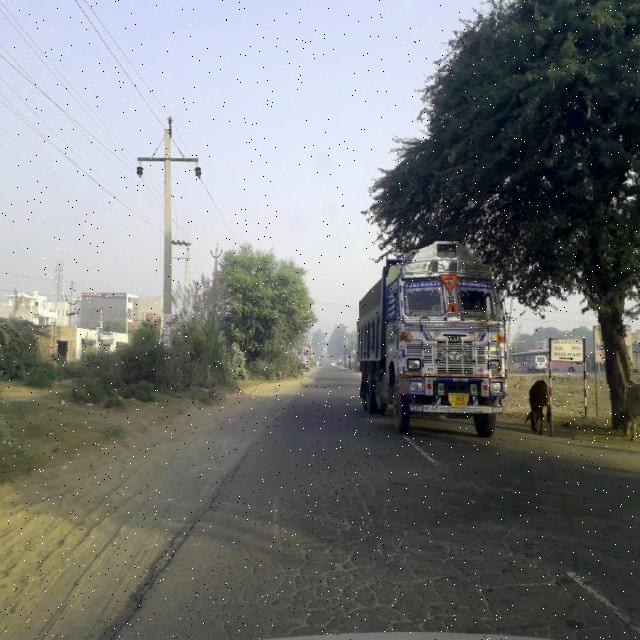D20: (252, 440, 639, 638)
